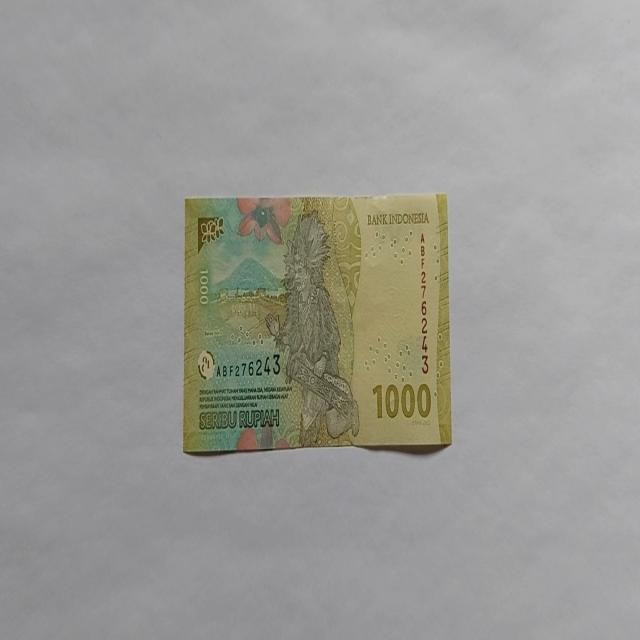seribu rupiah kertas: (182, 192, 452, 454)
